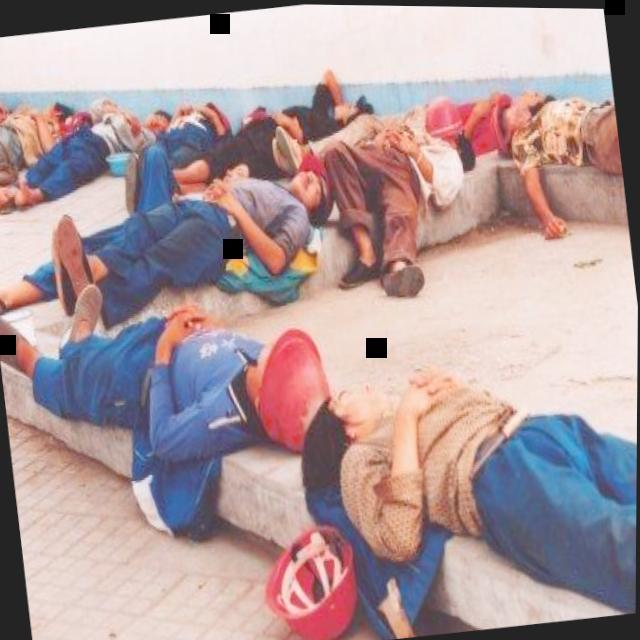Fall-Detected: (0, 75, 79, 209)
